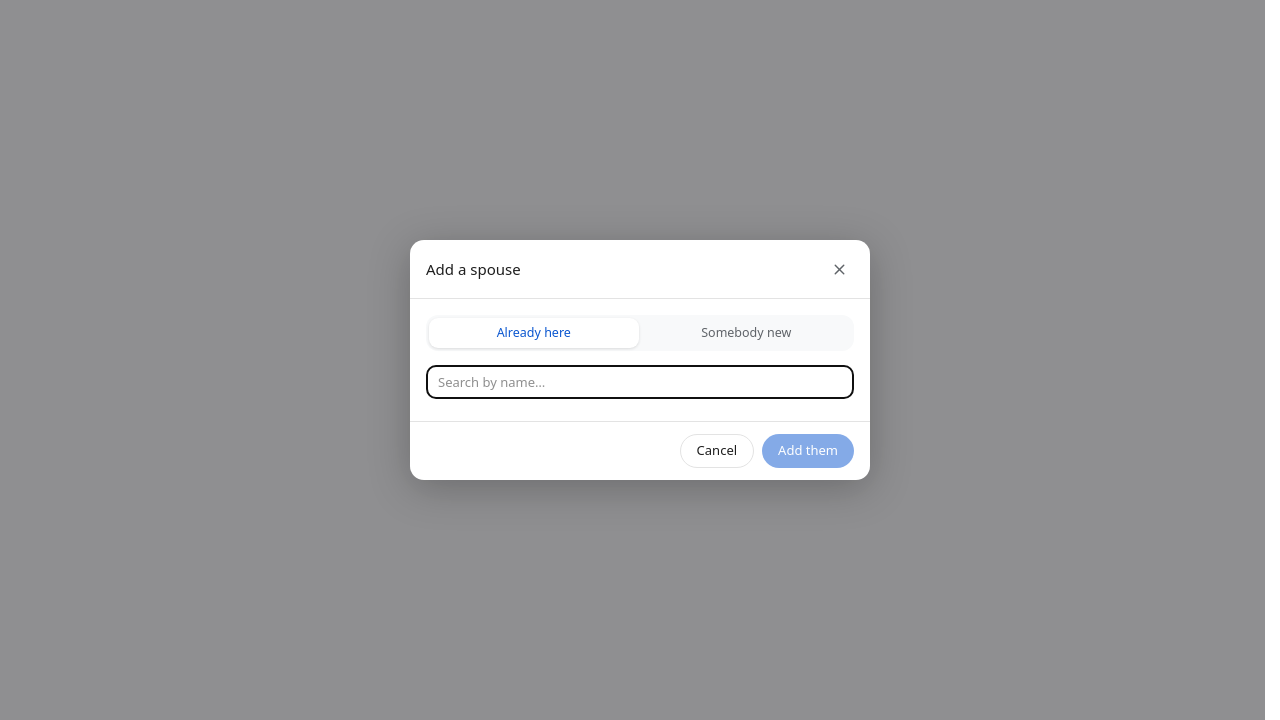
Test case: AddRelativeModal › search-existing mode › survives a search failure
Type "X" into the field with placeholder "Search by name…" at (640, 382), box [426,365,854,399]
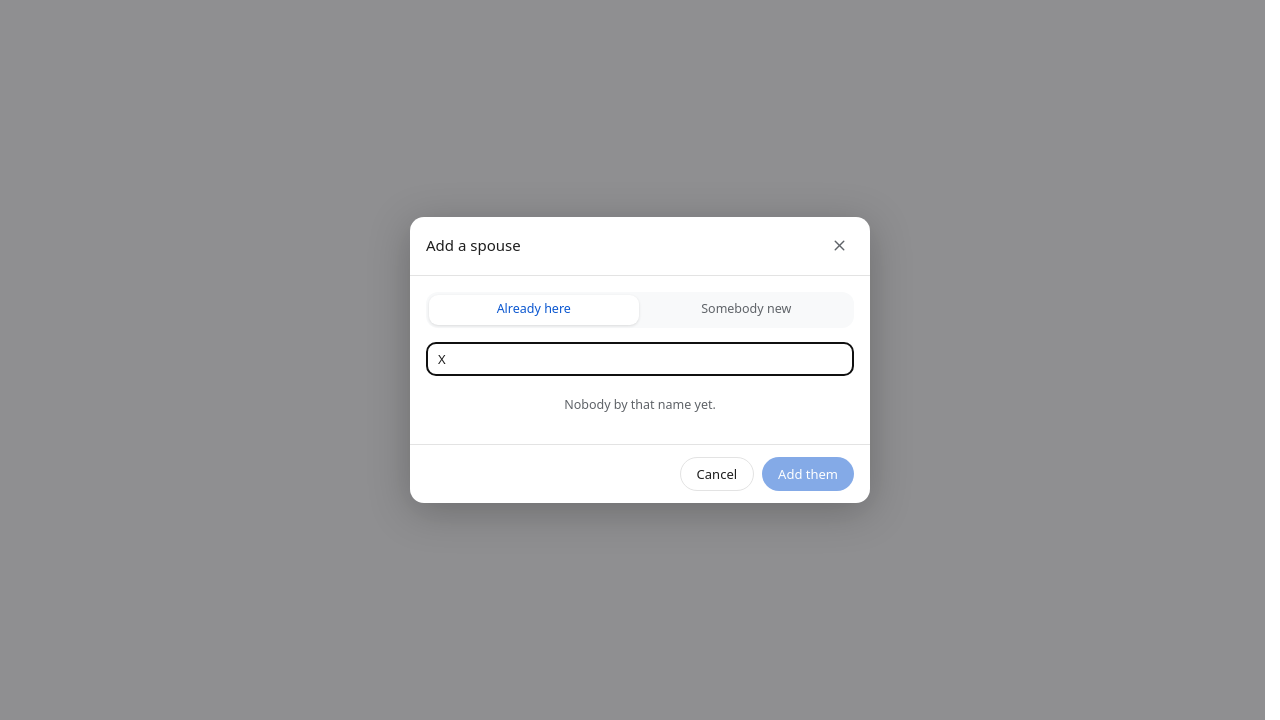
Expected: the button "Add them" is disabled, [762,457,854,491]
Expected: the text "Nobody by that name yet." is shown, [564,396,716,413]
